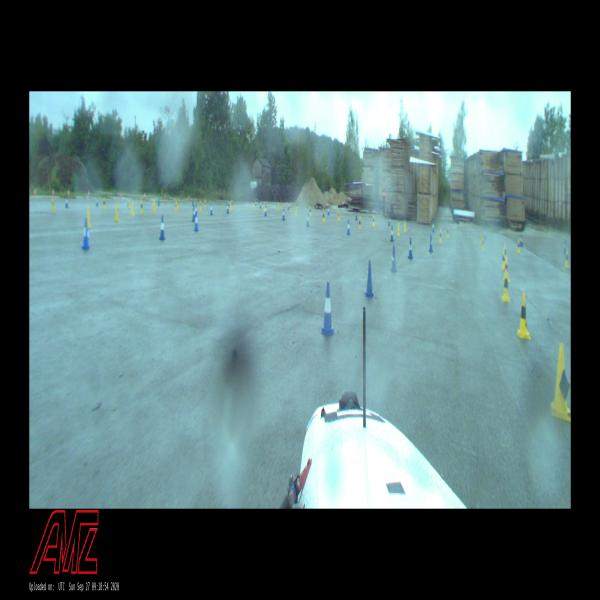blue_cone: (320, 283, 334, 335), (364, 262, 373, 298), (82, 221, 88, 247), (390, 248, 396, 270), (159, 216, 164, 238), (194, 212, 199, 231), (408, 239, 412, 258), (429, 235, 433, 252), (390, 226, 394, 241), (347, 220, 350, 235), (563, 238, 566, 253), (520, 234, 523, 247), (192, 208, 195, 221), (282, 208, 285, 220), (210, 203, 213, 215), (327, 205, 330, 214), (66, 196, 68, 208), (307, 213, 309, 225), (432, 221, 434, 232), (227, 203, 229, 214), (266, 206, 268, 216), (388, 216, 390, 224), (195, 204, 197, 212), (260, 201, 261, 209)
orange_cone: (34, 188, 36, 196)
yellow_cone: (551, 343, 571, 423), (516, 293, 531, 339), (502, 270, 510, 303), (503, 260, 509, 283), (87, 206, 91, 228), (565, 250, 569, 268), (115, 204, 119, 221), (481, 236, 485, 251), (152, 198, 156, 213), (131, 201, 135, 216), (502, 249, 505, 268), (438, 229, 442, 243), (478, 231, 482, 244), (102, 197, 106, 209), (517, 238, 520, 254), (505, 244, 507, 263), (140, 200, 143, 212), (51, 198, 54, 209), (309, 206, 312, 216), (372, 216, 375, 226), (322, 211, 325, 221), (359, 216, 361, 229), (397, 224, 399, 236), (404, 220, 406, 231), (338, 210, 340, 221), (447, 227, 449, 238), (200, 201, 202, 211), (277, 202, 279, 210), (178, 200, 180, 208), (176, 202, 177, 212), (205, 199, 206, 208), (231, 200, 232, 209), (290, 203, 291, 212), (264, 203, 265, 212), (296, 208, 297, 217), (255, 202, 256, 210)
